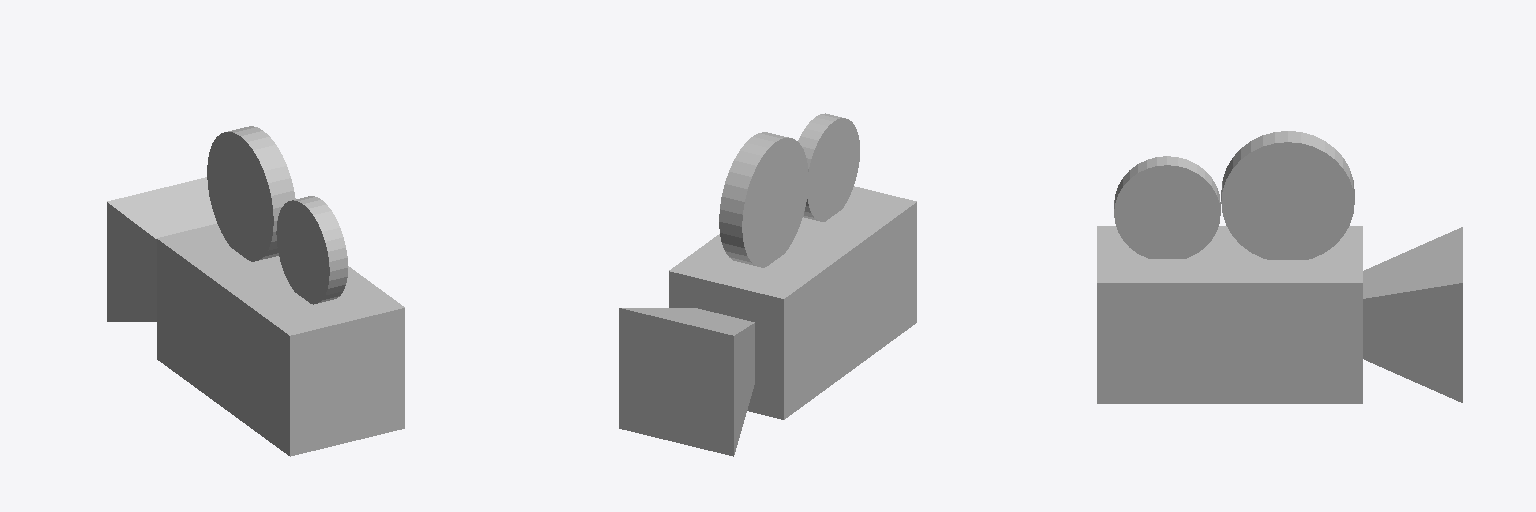
The model's file is camera.obj.
3 views of the same model, side by side, from view 1: azimuth 30°, elevation 25°; view 2: azimuth 150°, elevation 25°; view 3: azimuth 270°, elevation 25° (orthographic).
Visible parts, largest first — view 1: Cylinder.001; view 2: Cylinder.001; view 3: Cylinder.001.
Part boxes in pixels (x1,y1,x2,y2): Cylinder.001: (107, 126, 404, 456); Cylinder.001: (619, 113, 916, 456); Cylinder.001: (1097, 131, 1462, 403).
Size of the model in its own units: 1 by 1.98 by 2.75.